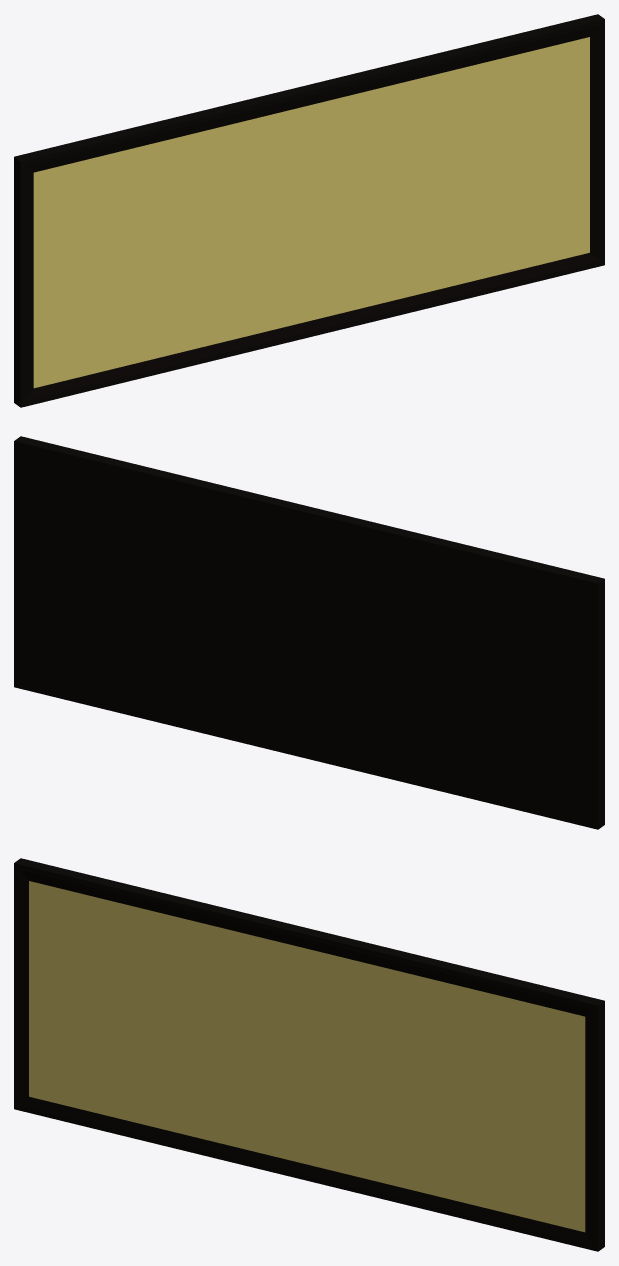
File: CuadroGrande.fbx
The picture shows the model from 3 angles, top to bottom: view 1: azimuth 30°, elevation 25°; view 2: azimuth 150°, elevation 25°; view 3: azimuth 330°, elevation 25°; orthographic projection.
Visible parts, largest first — view 1: Cuadro; view 2: Cuadro; view 3: Cuadro.
Boxes of the visible parts, x1,y1,x2,y2 form: Cuadro: (14, 14, 604, 407); Cuadro: (14, 436, 604, 829); Cuadro: (14, 858, 604, 1251).
Bounding box in the file's own units: 1.97 × 0.7936 × 0.0396.
